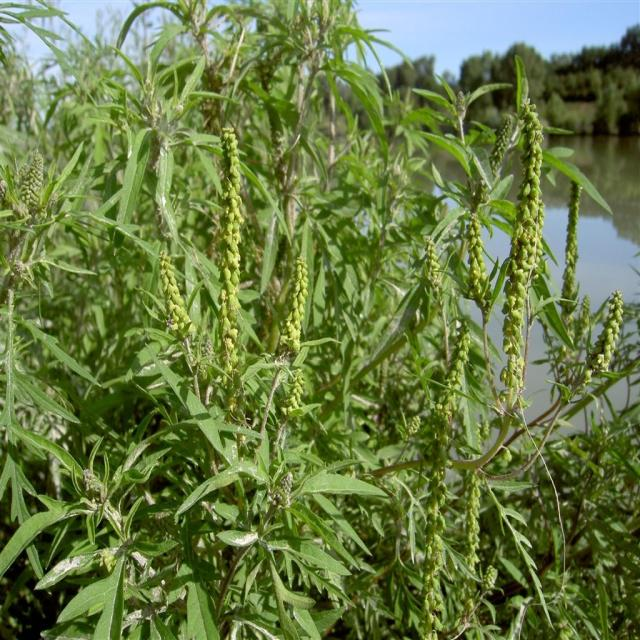ambrosia: (432, 78, 625, 420), (162, 126, 306, 455), (364, 434, 504, 640), (9, 136, 67, 335)
